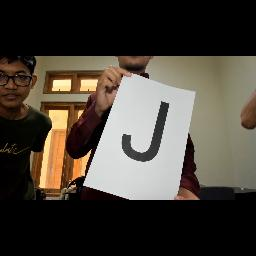j: (121, 98, 173, 174)
